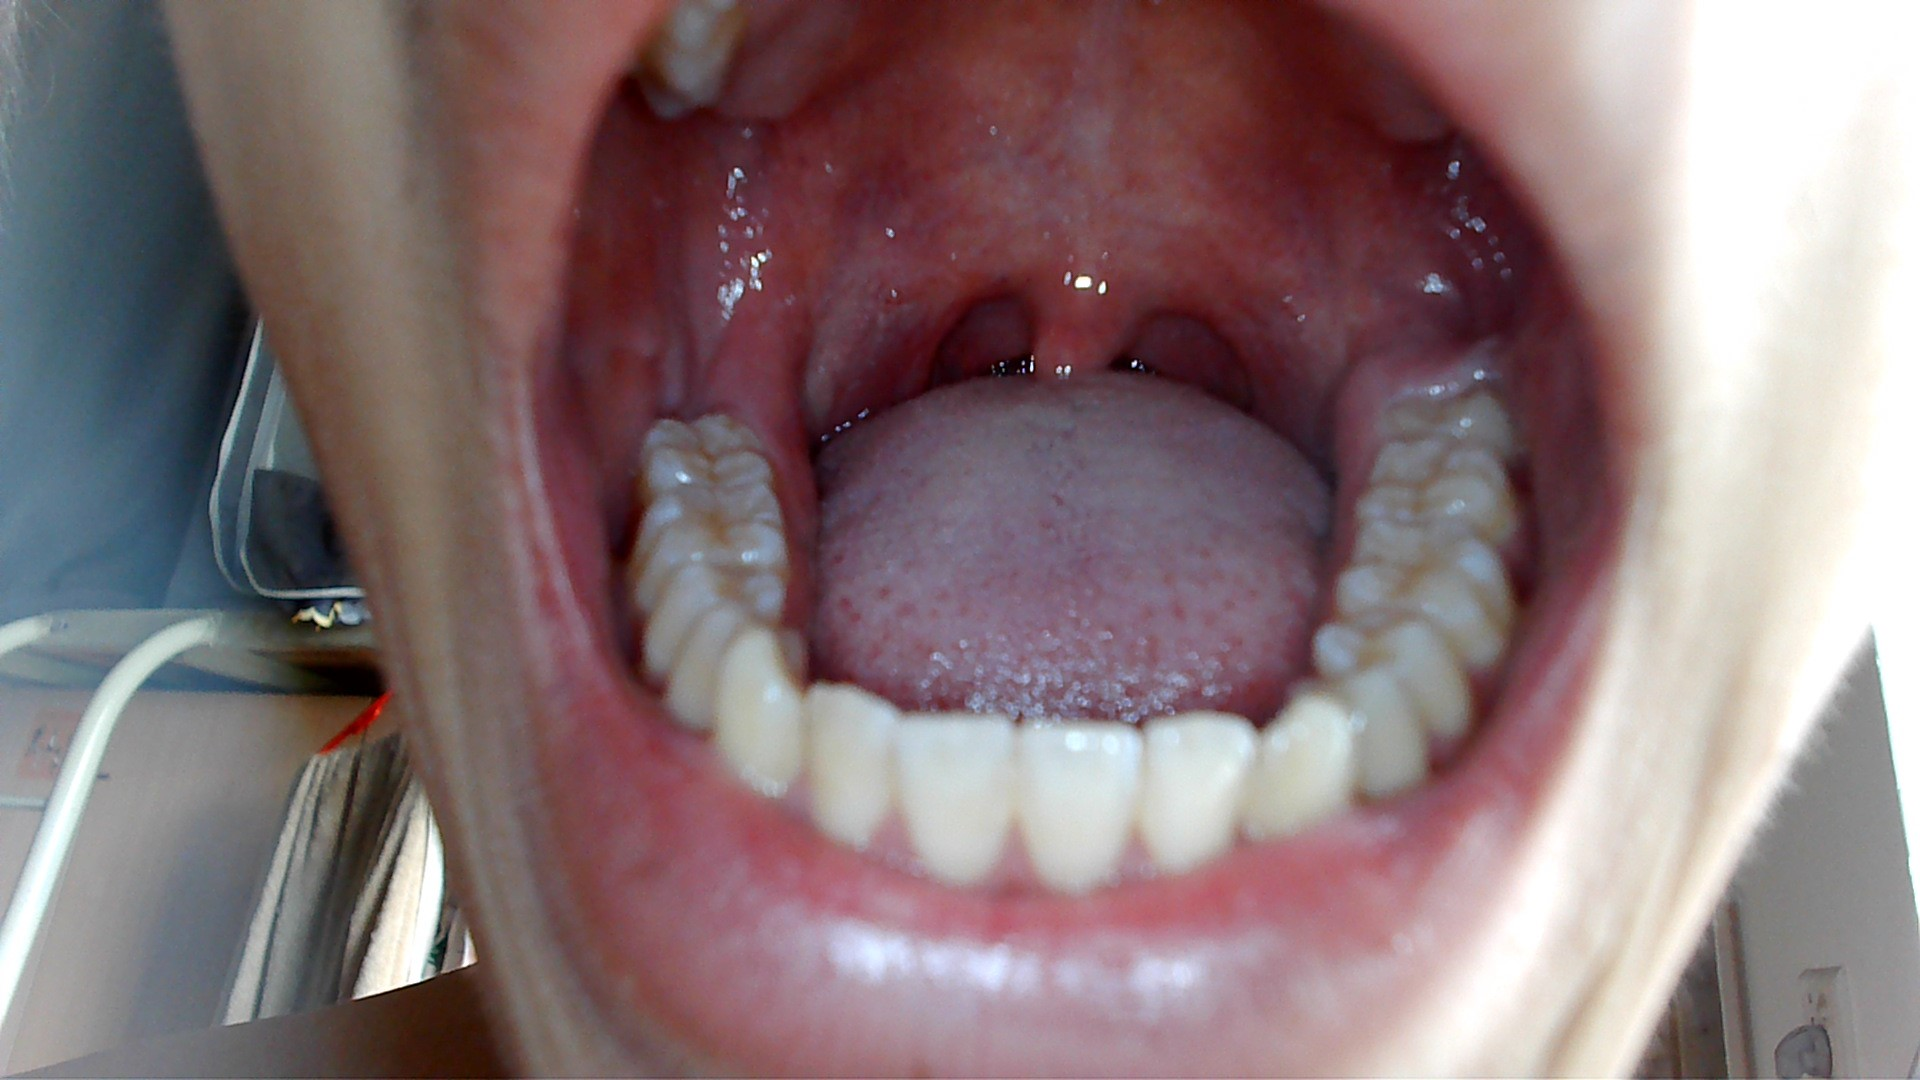throat: (1170, 268, 1305, 407), (898, 264, 998, 400)
